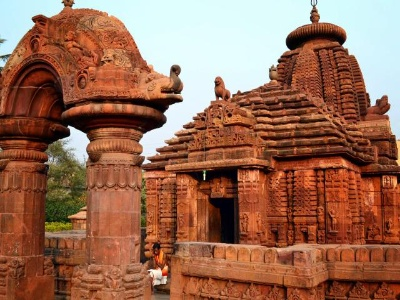amalaka: (284, 20, 355, 46)
gopuram: (268, 48, 377, 132)
torana: (2, 2, 164, 274)
